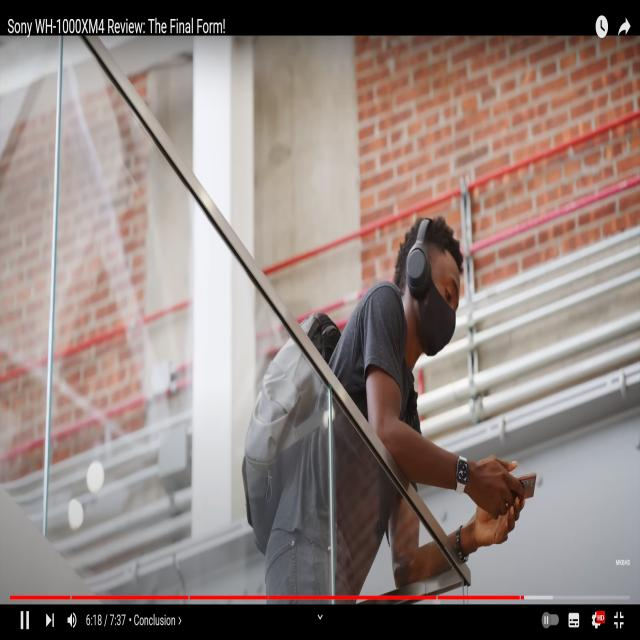Headphone: (405, 217, 432, 299)
